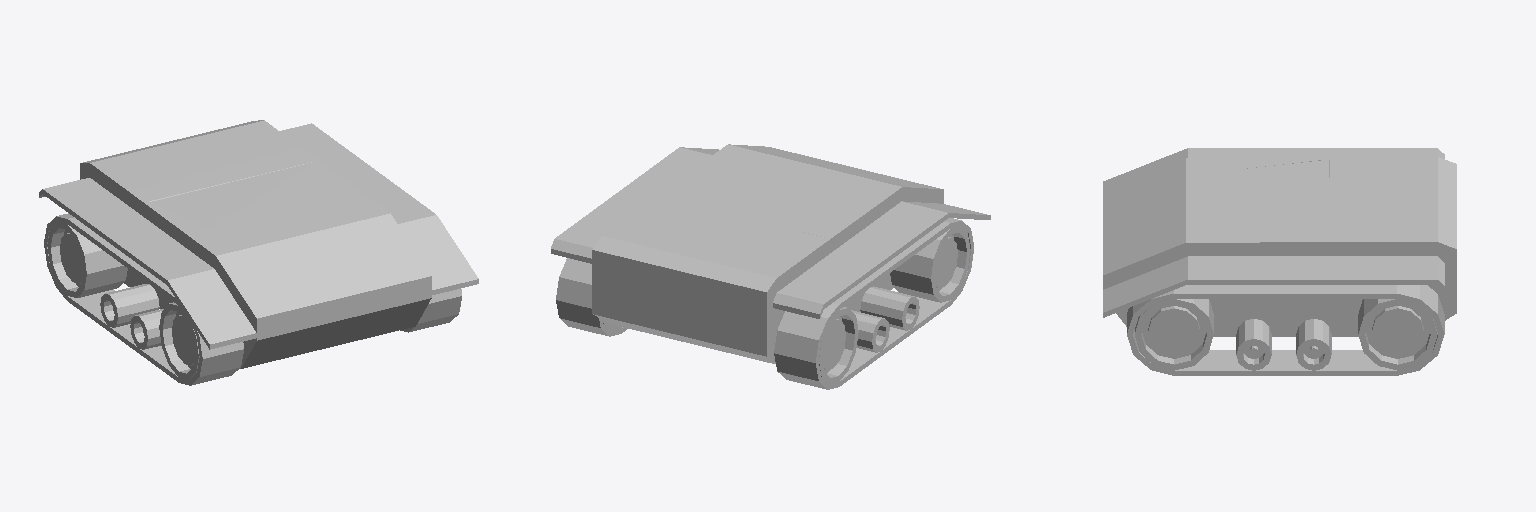
Rendered from tankBot.obj.
3 views of the same model, side by side, from view 1: azimuth 30°, elevation 25°; view 2: azimuth 150°, elevation 25°; view 3: azimuth 270°, elevation 25° (orthographic).
Parts seen in each view (by area): view 1: tank; view 2: tank; view 3: tank.
Boxes of the visible parts, x1,y1,x2,y2 form: tank: [39, 120, 478, 385]; tank: [551, 144, 990, 389]; tank: [1103, 148, 1456, 375].
Bounding box in the file's own units: 4.76 × 1.91 × 5.4.